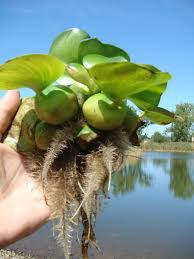water_hyacinth: (1, 28, 180, 139)
